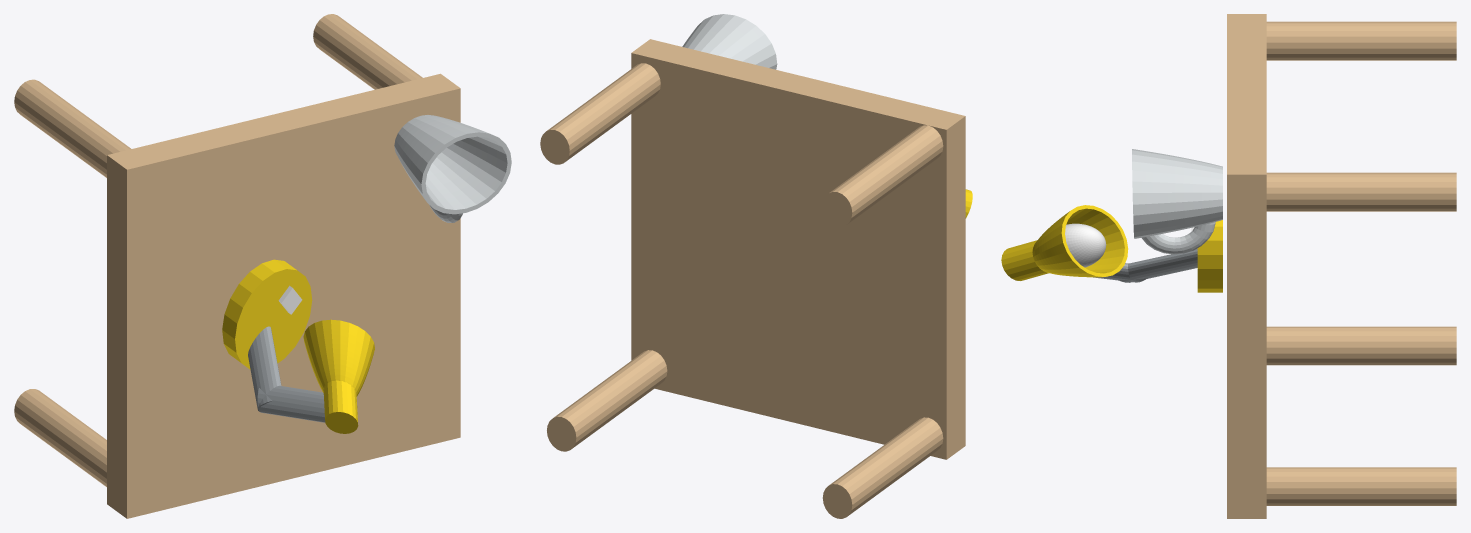
The model's file is tinker.obj.
The picture shows the model from 3 angles, left to right: view 1: azimuth 30°, elevation 25°; view 2: azimuth 150°, elevation 25°; view 3: azimuth 270°, elevation 25°; orthographic projection. The views are drawn at different scales.
Parts seen in each view (by area): view 1: group_0_14860437, group_0_16768282, group_0_14541540, group_0_10988977; view 2: group_0_14860437, group_0_14541540; view 3: group_0_14860437, group_0_14541540, group_0_16768282, group_0_10988977, group_0_16448250.
Part boxes in pixels (bbox=[...]): group_0_14860437: bbox=[14, 14, 460, 518]; group_0_16768282: bbox=[222, 259, 374, 433]; group_0_14541540: bbox=[394, 115, 511, 222]; group_0_10988977: bbox=[248, 326, 325, 422]; group_0_14860437: bbox=[540, 39, 965, 518]; group_0_14541540: bbox=[682, 14, 777, 69]; group_0_14860437: bbox=[1227, 14, 1456, 518]; group_0_14541540: bbox=[1132, 149, 1222, 254]; group_0_16768282: bbox=[1001, 205, 1222, 292]; group_0_10988977: bbox=[1093, 249, 1197, 282]; group_0_16448250: bbox=[1065, 223, 1197, 267].
Bounding box in the file's own units: 97 × 96 × 115.
